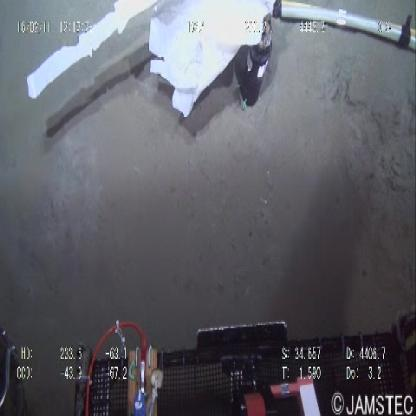Rov: (72, 308, 410, 416)
Rác: (22, 2, 280, 122)
